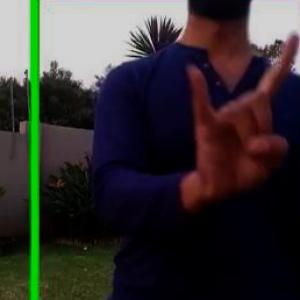takeoff-hand: (173, 24, 299, 196)
